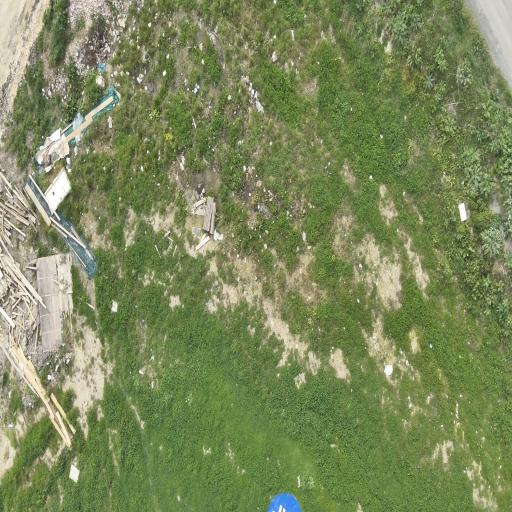uap: (267, 493, 301, 512)
